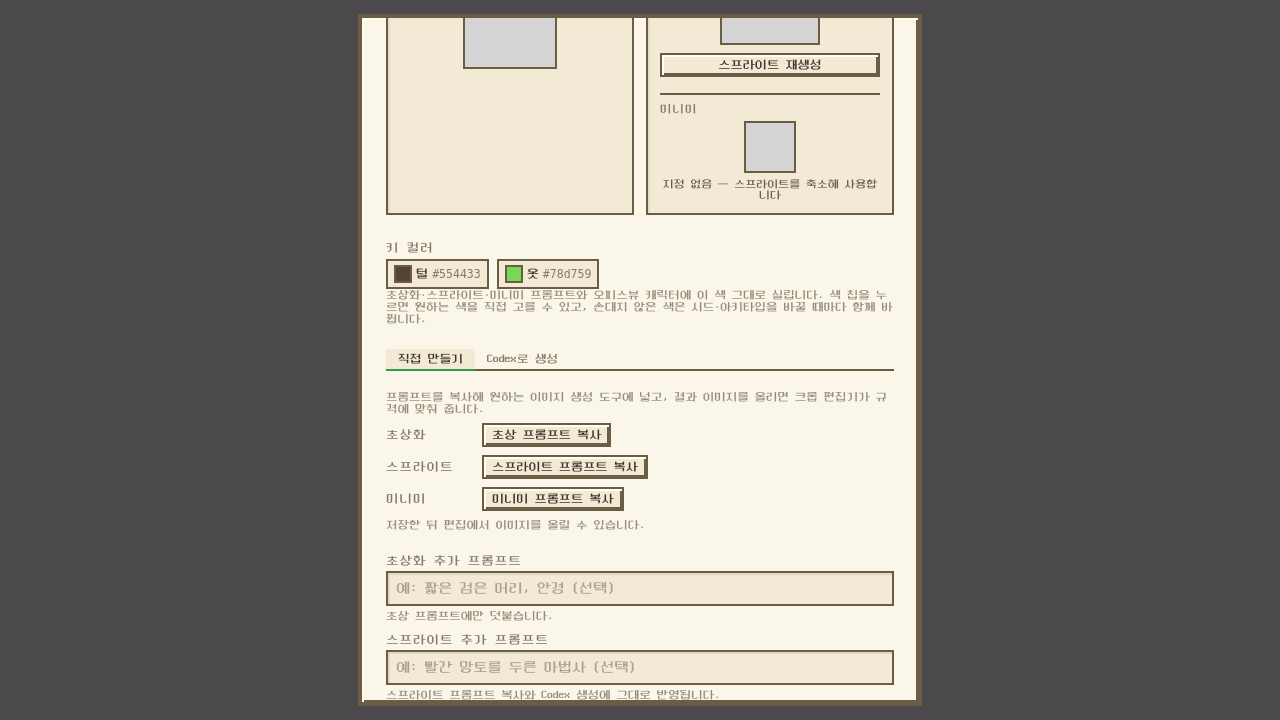
Test case: 외형 모드 탭 › 생성 모드(profile-create)에서는 생성 버튼이 비활성 + 저장 안내
The image size is (1280, 720).
(page scrolled)
Click the tab "Codex로 생성". click: [523, 360]
box: [475,349,570,371]
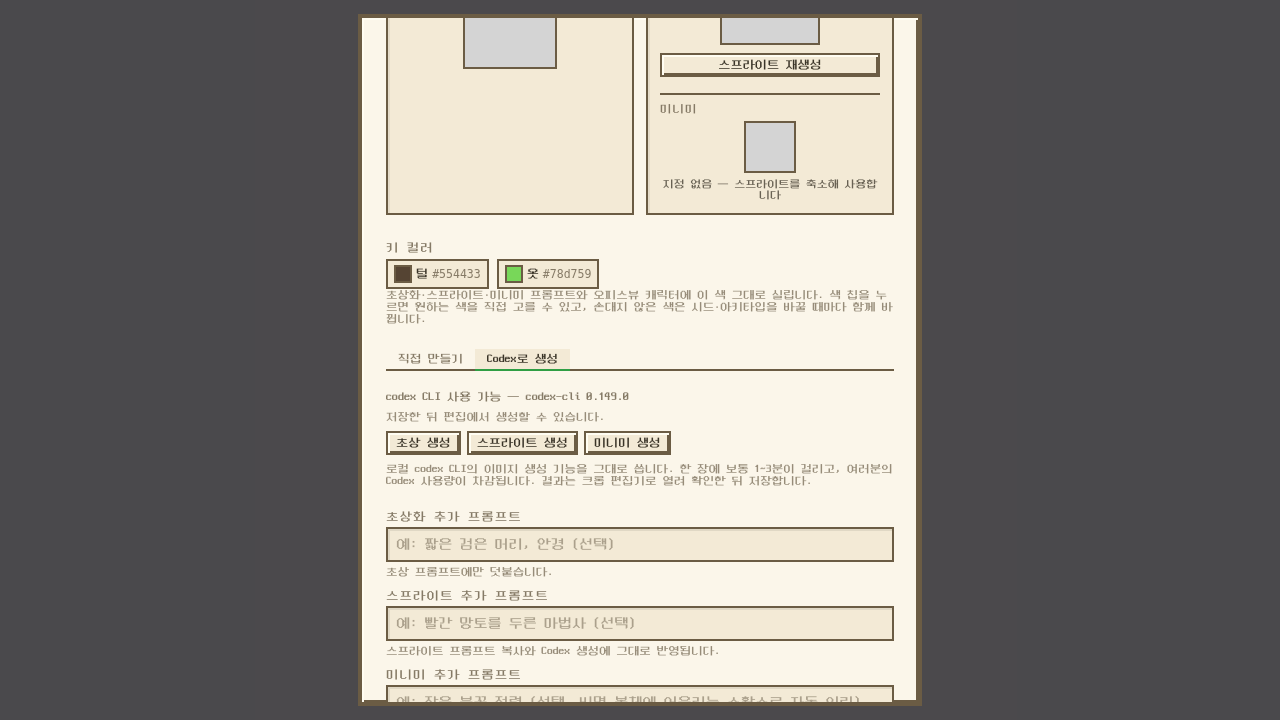
Result: the text "codex CLI 사용 가능 — codex-cli 0.149.0" is shown at [386,391,629,403]
Result: the text "저장한 뒤 편집에서 생성할 수 있습니다." is shown at [386,411,605,423]
Result: the button "초상 생성" is disabled at [386,431,461,455]
